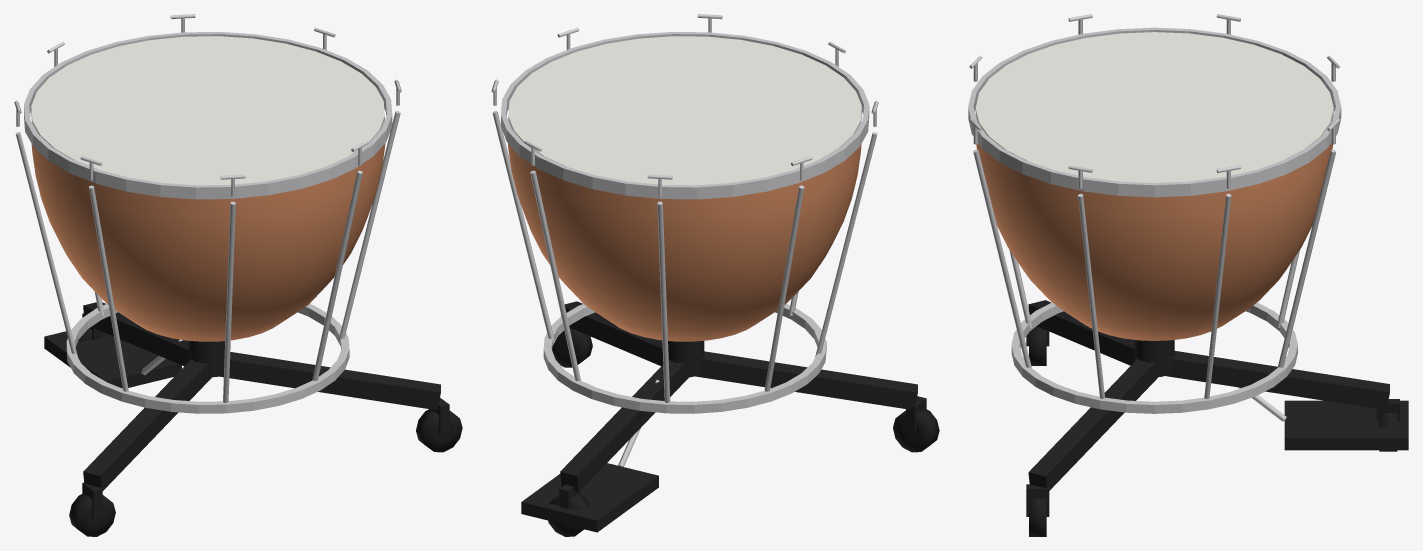
Rendered from timpani-32.glb.
3 renders of one model, left to right at view 1: azimuth 30°, elevation 25°; view 2: azimuth 150°, elevation 25°; view 3: azimuth 270°, elevation 25°, orthographic.
Visible parts, largest first — view 1: head, copper, metal, frame, rubber; view 2: head, copper, metal, frame, rubber; view 3: head, copper, metal, frame, rubber.
Boxes of the visible parts, box(x1,y1,x2,y2) form: head: box(31, 36, 384, 185); copper: box(30, 116, 385, 341); metal: box(14, 14, 401, 413); frame: box(44, 302, 449, 518); rubber: box(69, 328, 462, 536); head: box(508, 36, 861, 185); copper: box(508, 118, 862, 341); metal: box(491, 14, 878, 466); frame: box(521, 301, 926, 532); rubber: box(548, 329, 939, 536); head: box(975, 32, 1333, 182); copper: box(976, 143, 1332, 340); metal: box(968, 14, 1341, 421); frame: box(1026, 300, 1408, 516); rubber: box(1029, 327, 1397, 536).
Size of the model in its own units: 1.01 by 0.89 by 0.993.
